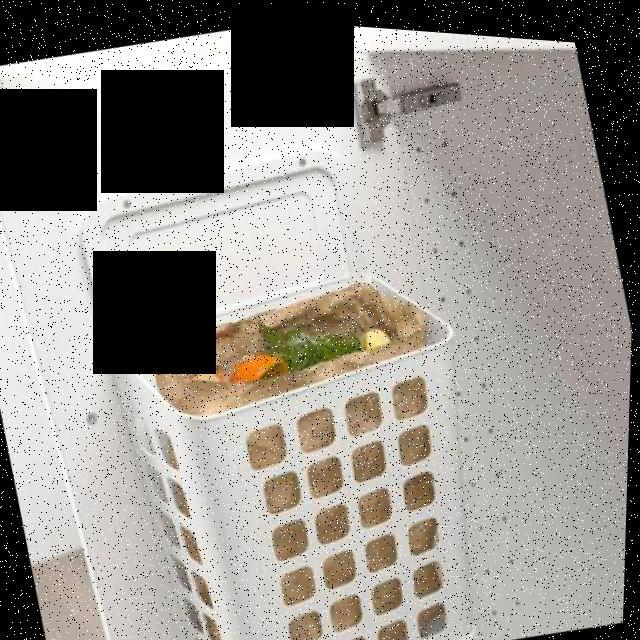bin: (31, 96, 533, 640)
